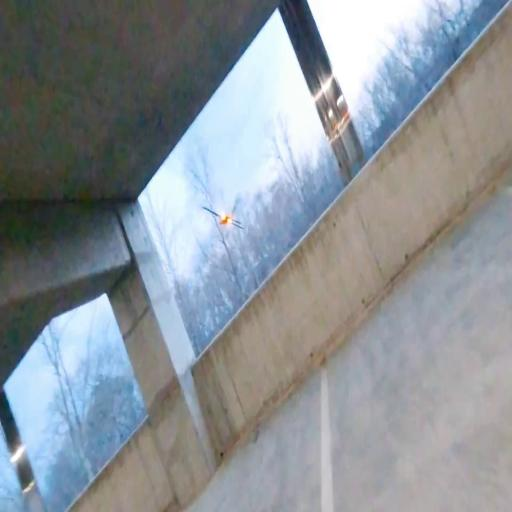uav: (200, 197, 246, 237)
